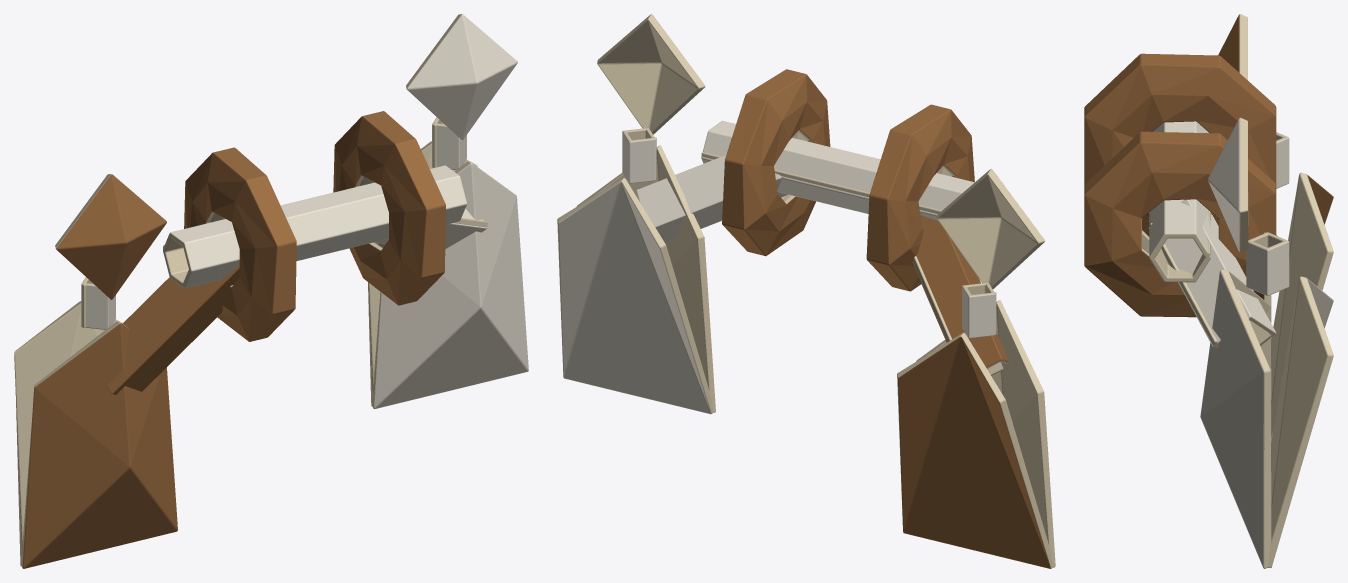
Rendered from achievement-ten-shares.glb.
3 views of the same model, side by side, from view 1: azimuth 30°, elevation 25°; view 2: azimuth 150°, elevation 25°; view 3: azimuth 270°, elevation 25° (orthographic). The views are drawn at different scales.
Visible parts, largest first — view 1: achievement-ten-shares; view 2: achievement-ten-shares; view 3: achievement-ten-shares.
Boxes of the visible parts, left/top/right/bottom form: achievement-ten-shares: left=14, top=14, right=528, bottom=568; achievement-ten-shares: left=557, top=14, right=1055, bottom=568; achievement-ten-shares: left=1084, top=14, right=1333, bottom=568.
Size of the model in its own units: 1.36 by 1.17 by 0.5415.
